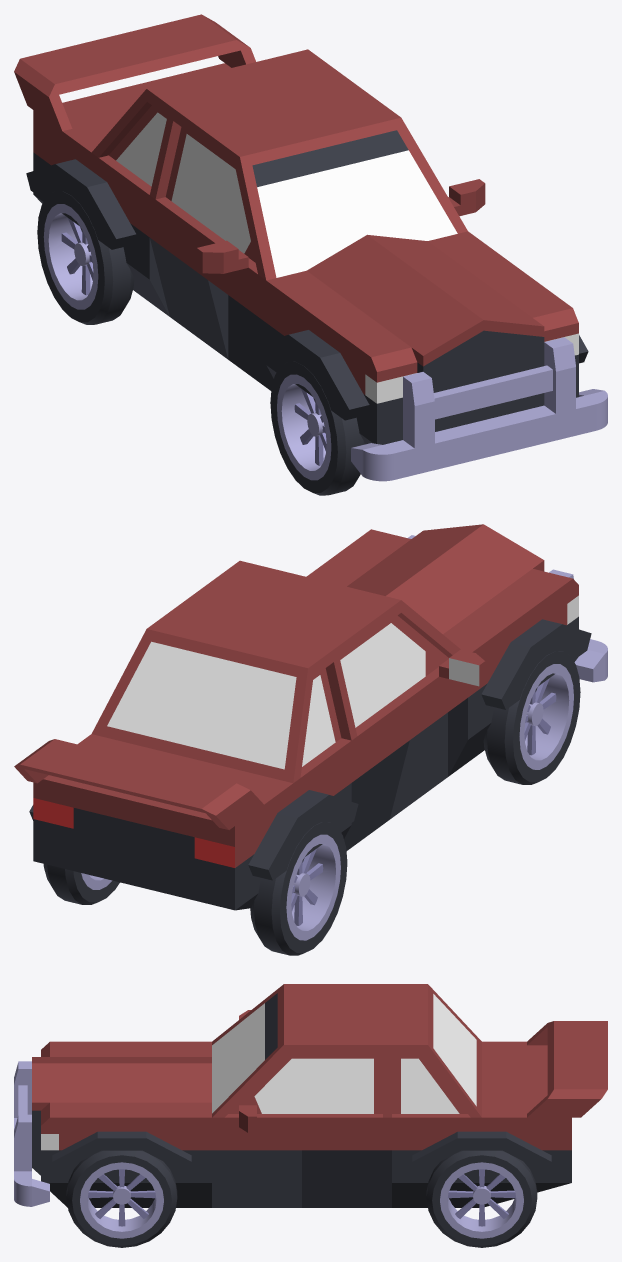
File: Luxred.fbx
3 renders of one model, top to bottom at view 1: azimuth 30°, elevation 25°; view 2: azimuth 150°, elevation 25°; view 3: azimuth 270°, elevation 25°, orthographic. The views are drawn at different scales.
Parts seen in each view (by area): view 1: body_topStandard, body_frontLuxury, wheel_cycleSpokesDetailed (×2), bumper_large, body_sports, spoiler_small, body_backSolid, wheel_coverSquare (×2), body_topBackStandard, detail_mirror (×2); view 2: body_topBackStandard, body_backSolid, body_frontLuxury, body_topStandard, wheel_cycleSpokesDetailed (×3), body_sports, spoiler_small, wheel_coverSquare (×2), detail_mirror, bumper_large; view 3: body_frontLuxury, body_topStandard, body_sports, wheel_cycleSpokesDetailed (×2), body_backSolid, body_topBackStandard, spoiler_small, wheel_coverSquare (×2), bumper_large, detail_mirror.
Boxes of the visible parts, x1=… form: body_topStandard: x1=150, y1=66, x2=467, y2=280; body_frontLuxury: x1=266, y1=231, x2=578, y2=444; wheel_cycleSpokesDetailed (×2): x1=37, y1=191, x2=364, y2=495; bumper_large: x1=351, y1=337, x2=607, y2=481; body_sports: x1=149, y1=195, x2=273, y2=390; spoiler_small: x1=14, y1=14, x2=255, y2=130; body_backSolid: x1=33, y1=63, x2=230, y2=316; wheel_coverSquare (×2): x1=26, y1=159, x2=369, y2=420; body_topBackStandard: x1=91, y1=49, x2=330, y2=186; detail_mirror (×2): x1=196, y1=179, x2=485, y2=273; body_topBackStandard: x1=91, y1=612, x2=341, y2=783; body_backSolid: x1=33, y1=734, x2=351, y2=910; body_frontLuxury: x1=306, y1=524, x2=578, y2=776; body_topStandard: x1=170, y1=560, x2=460, y2=740; wheel_cycleSpokesDetailed (×3): x1=43, y1=651, x2=580, y2=955; body_sports: x1=344, y1=667, x2=467, y2=850; spoiler_small: x1=14, y1=739, x2=263, y2=829; wheel_coverSquare (×2): x1=248, y1=619, x2=591, y2=880; detail_mirror: x1=439, y1=649, x2=485, y2=686; bumper_large: x1=407, y1=535, x2=607, y2=682; body_frontLuxury: x1=32, y1=1041, x2=211, y2=1207; body_topStandard: x1=212, y1=984, x2=391, y2=1117; body_sports: x1=212, y1=1114, x2=391, y2=1207; wheel_cycleSpokesDetailed (×2): x1=66, y1=1150, x2=537, y2=1247; body_backSolid: x1=392, y1=1041, x2=571, y2=1207; body_topBackStandard: x1=392, y1=984, x2=481, y2=1117; spoiler_small: x1=527, y1=1021, x2=607, y2=1117; wheel_coverSquare (×2): x1=52, y1=1131, x2=551, y2=1172; bumper_large: x1=14, y1=1061, x2=49, y2=1206; detail_mirror: x1=239, y1=1105, x2=256, y2=1132.
Size of the model in its own units: 14 by 11.78 by 33.
